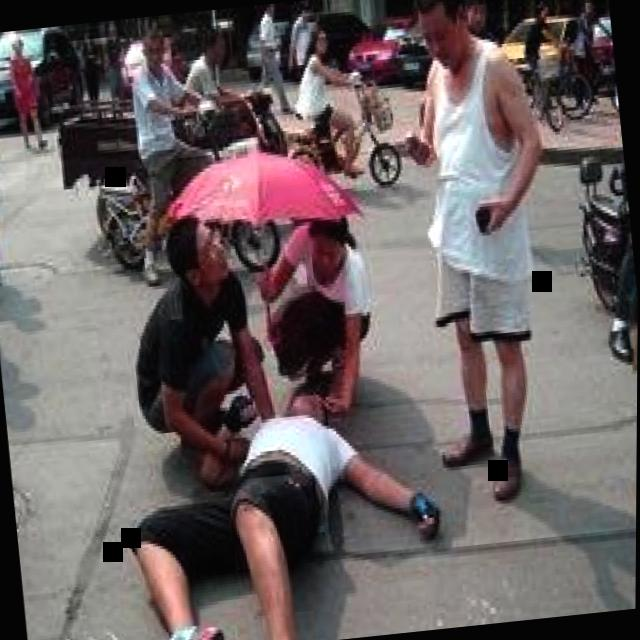Fall-Detected: (100, 345, 476, 640)
